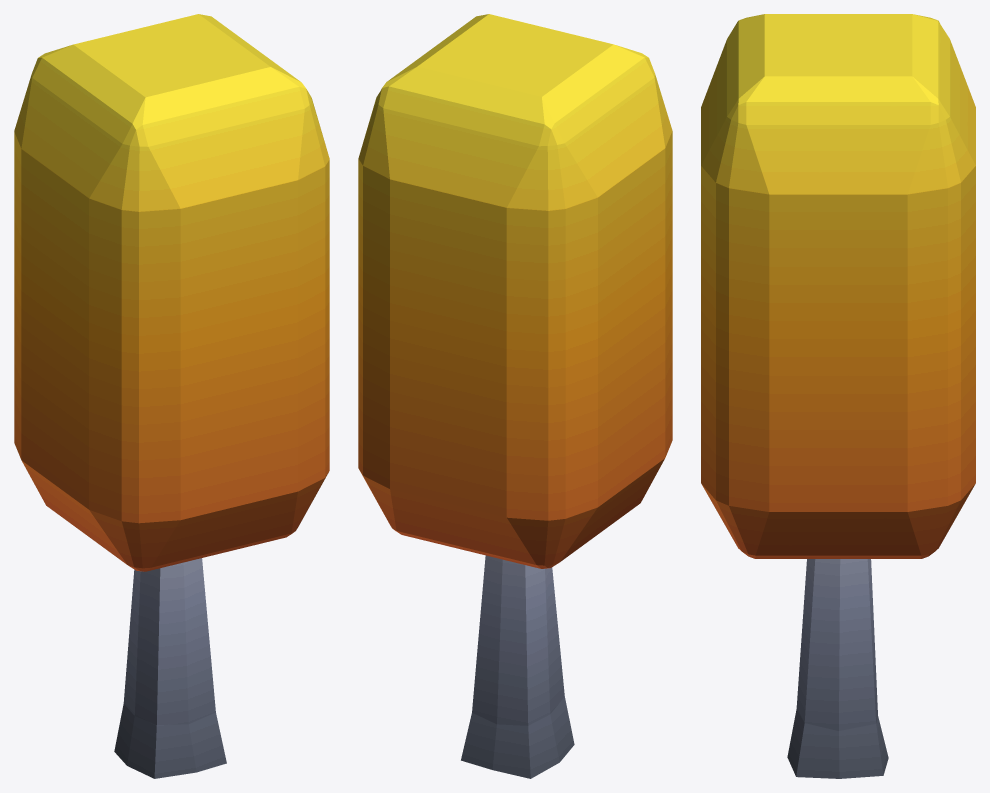
File: Birch_C.glb
3 views of the same model, side by side, from view 1: azimuth 30°, elevation 25°; view 2: azimuth 150°, elevation 25°; view 3: azimuth 270°, elevation 25° (orthographic). The views are drawn at different scales.
Visible parts, largest first — view 1: Birch_Leaves_C, Birch_Trunk_C; view 2: Birch_Leaves_C, Birch_Trunk_C; view 3: Birch_Leaves_C, Birch_Trunk_C.
Part boxes in pixels (x1,y1,x2,y2): Birch_Leaves_C: (14,14,329,571); Birch_Trunk_C: (114,558,226,778); Birch_Leaves_C: (358,14,672,568); Birch_Trunk_C: (461,555,574,778); Birch_Leaves_C: (701,14,975,558); Birch_Trunk_C: (787,559,888,778).
Size of the model in its own units: 1.44 by 4.14 by 1.44.
Materials: 1 (1 with a texture image).
